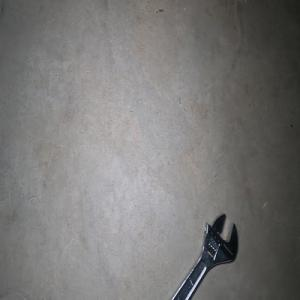Wrench: (171, 213, 237, 300)
